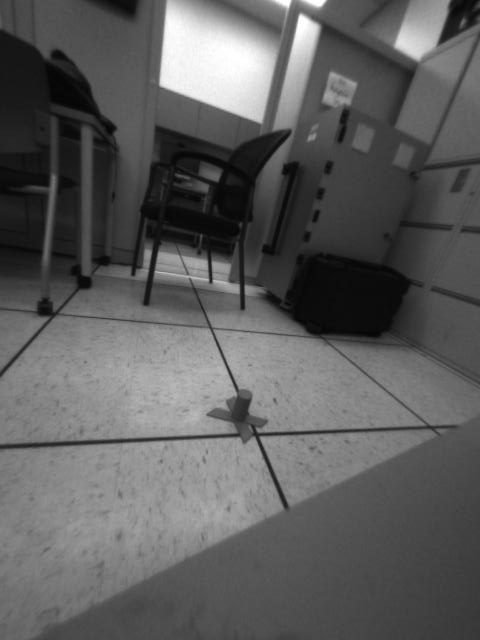X: (204, 387, 272, 445)
